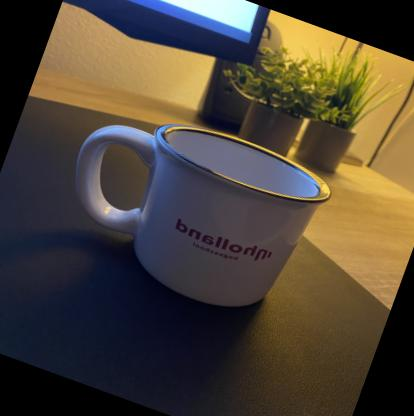Cup: (42, 85, 341, 334)
